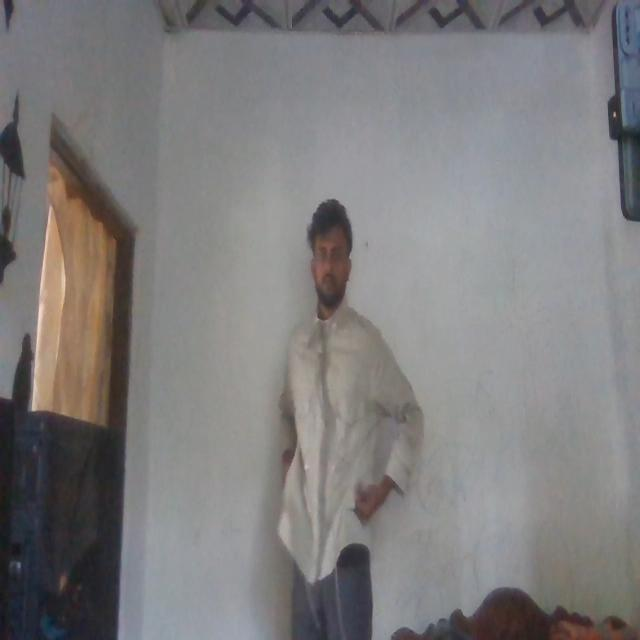Jacket_Wearer: (272, 308, 420, 558)
Person: (262, 201, 419, 635)
